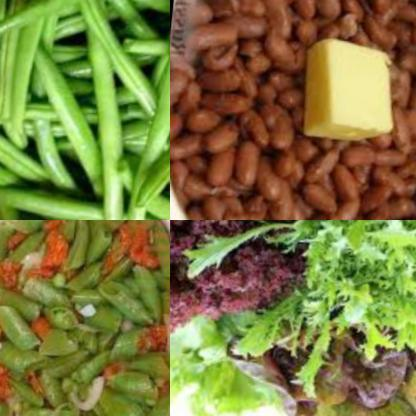cucumber: (248, 303, 416, 416), (170, 220, 285, 332)
fasol: (0, 0, 170, 220), (0, 220, 170, 416), (170, 117, 416, 220), (170, 0, 321, 121), (311, 0, 416, 59), (391, 42, 416, 151)
salad: (170, 329, 268, 416)
